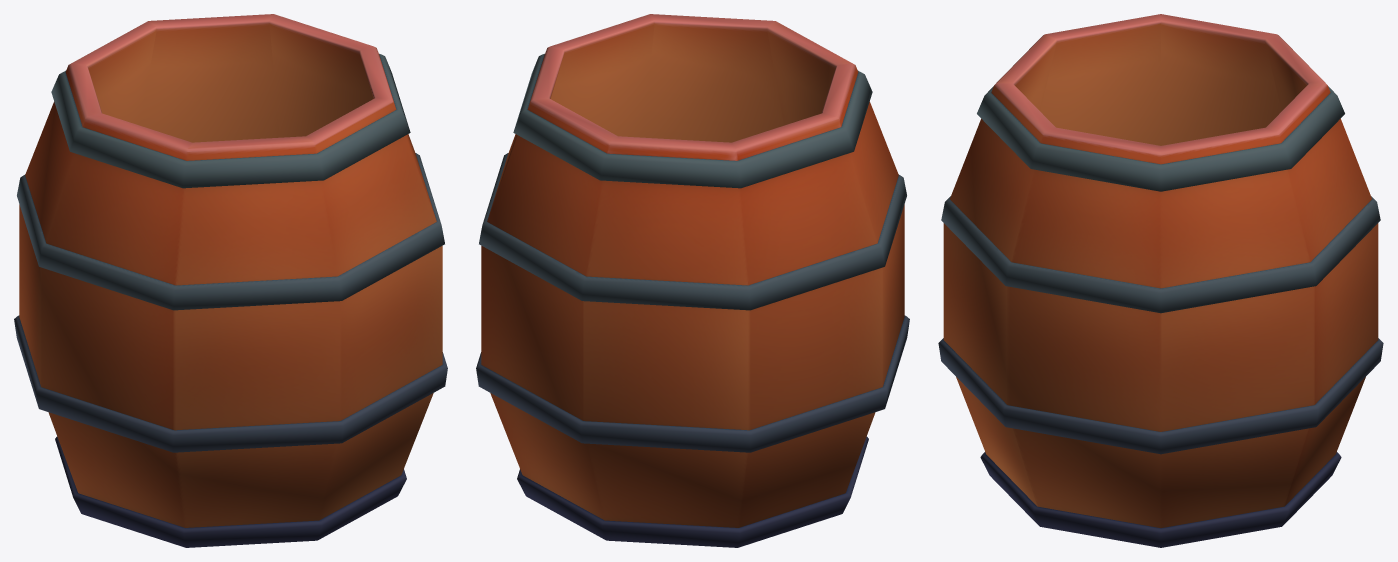
Rendered from Barrel.fbx.
3 views of the same model, side by side, from view 1: azimuth 30°, elevation 25°; view 2: azimuth 150°, elevation 25°; view 3: azimuth 270°, elevation 25° (orthographic).
Visible parts, largest first — view 1: Barrel.001; view 2: Barrel.001; view 3: Barrel.001.
Part boxes in pixels (x1=…): Barrel.001: x1=14, y1=14, x2=447, y2=547; Barrel.001: x1=476, y1=14, x2=909, y2=547; Barrel.001: x1=938, y1=14, x2=1383, y2=547.
Bounding box in the file's own units: 104 × 104 × 102.
